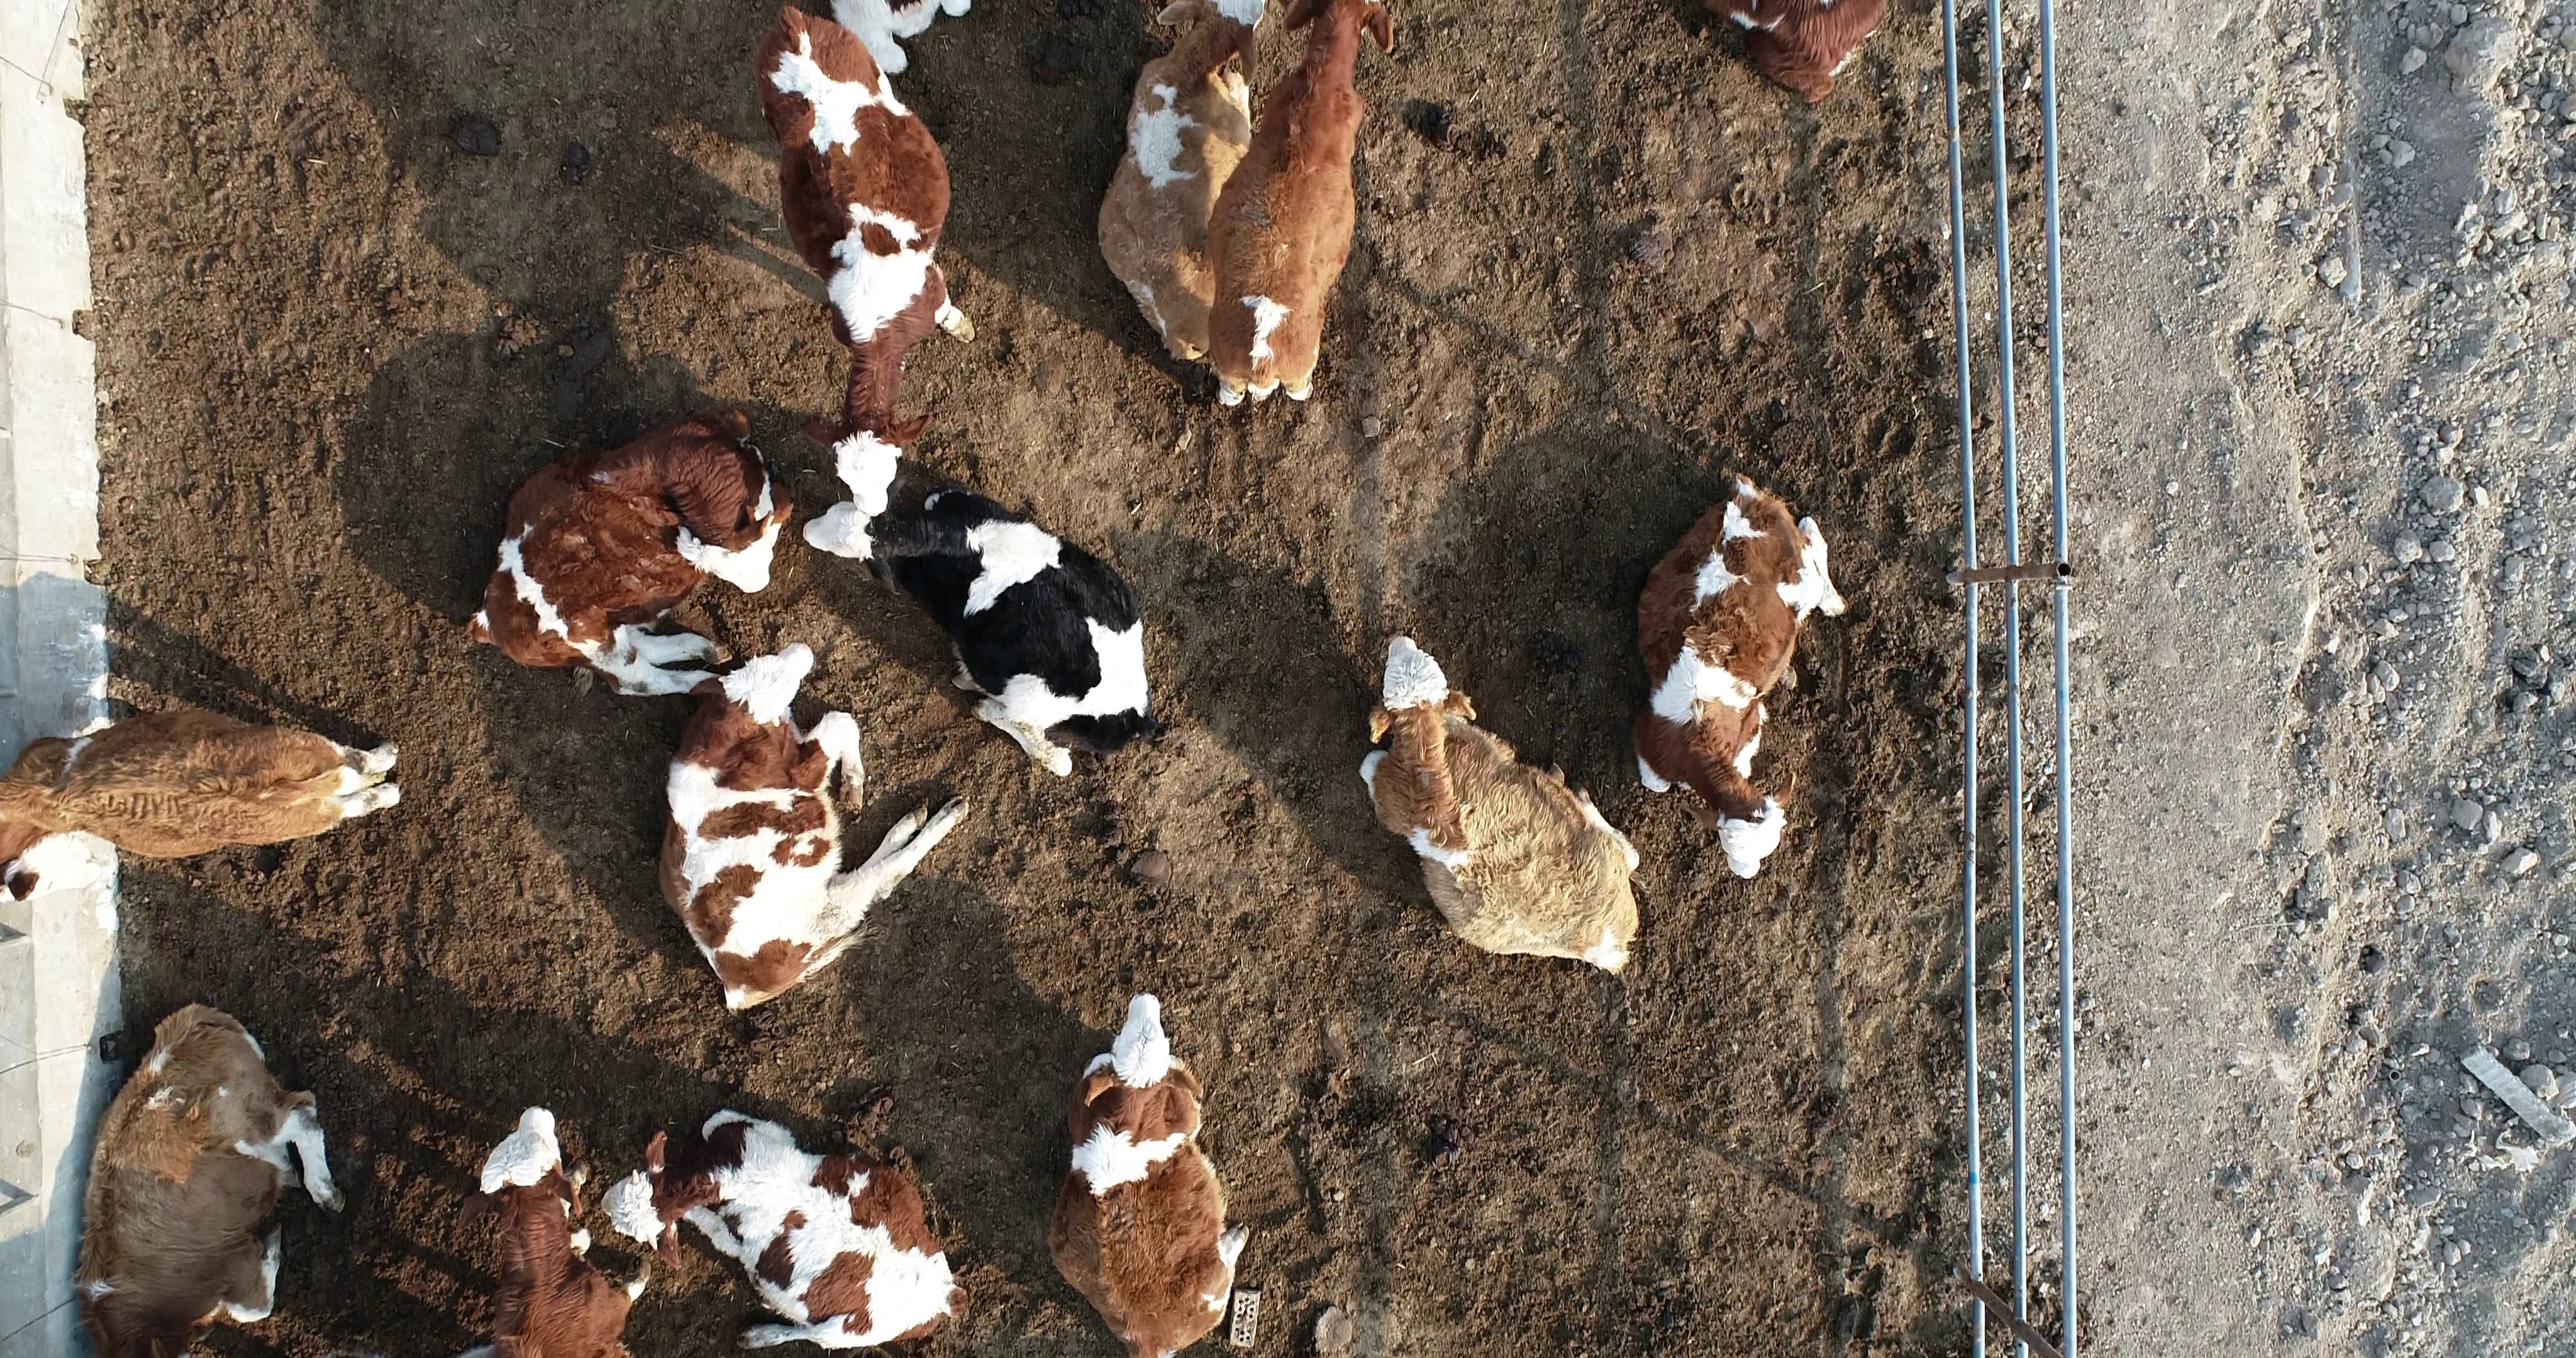cattle: (751, 2, 981, 523)
